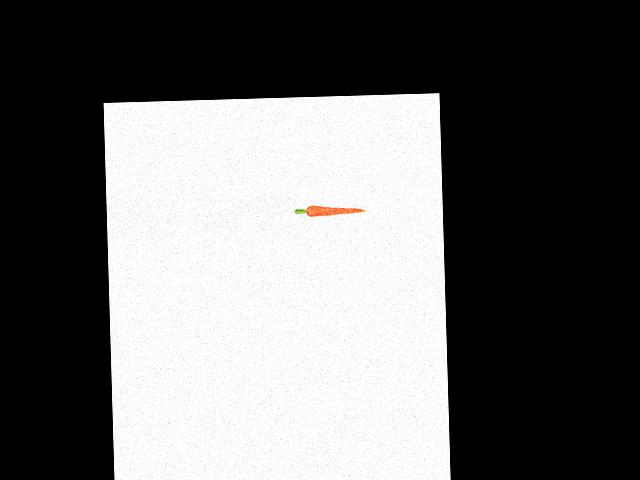carrot: (304, 201, 370, 219)
